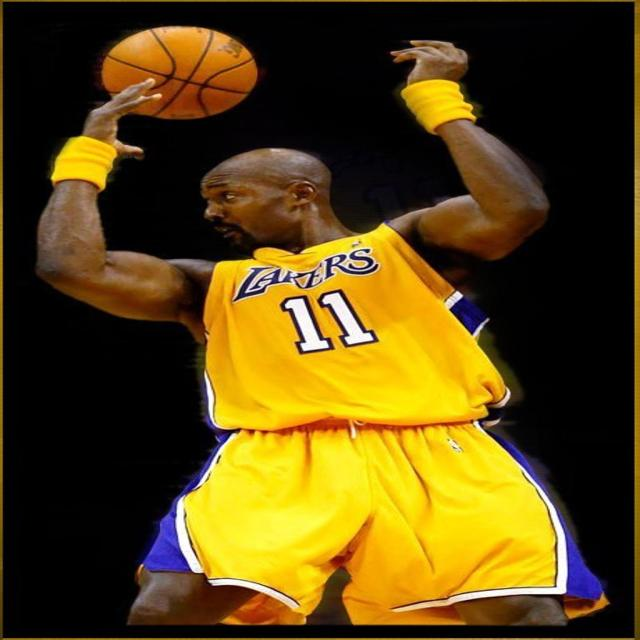Face: (189, 159, 305, 249)
